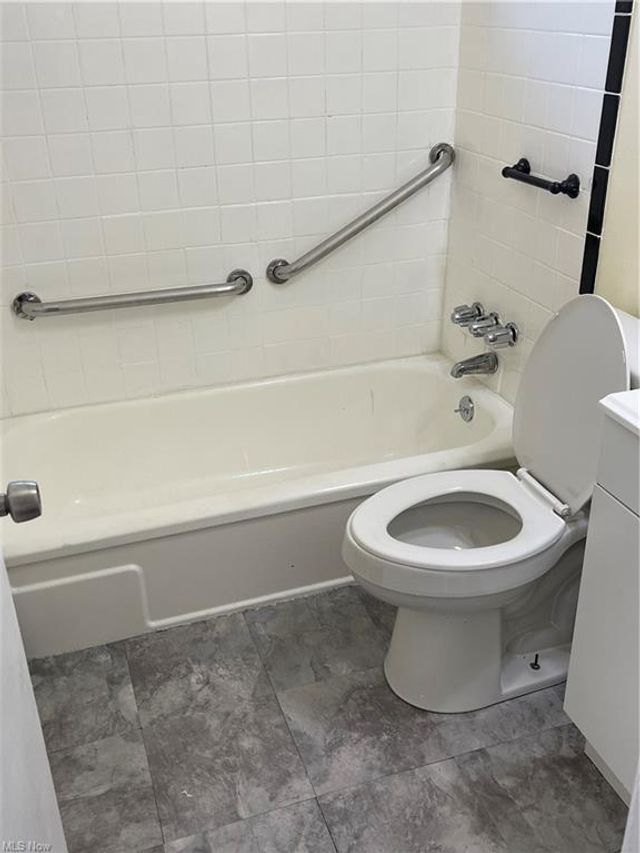counter: (559, 385, 640, 837)
door_handle: (1, 479, 44, 526)
restroom_assist_bar: (265, 141, 455, 285), (10, 269, 256, 323), (500, 158, 584, 201)
toilet: (341, 292, 640, 716)
